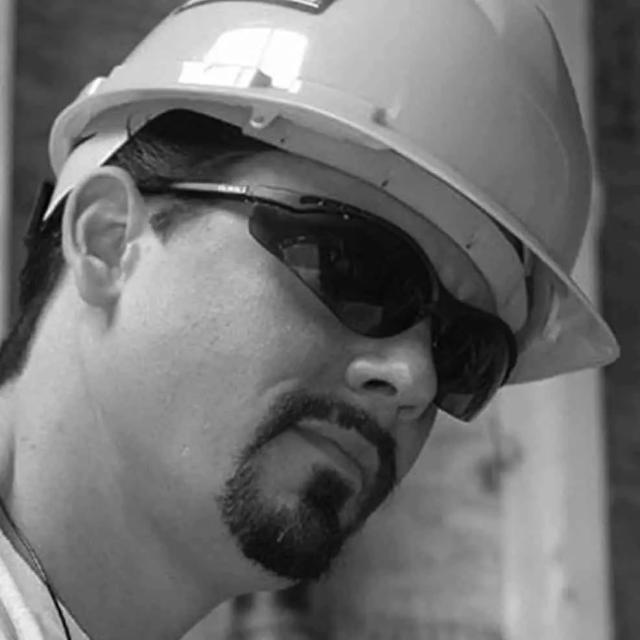goggles: (133, 168, 522, 422)
helmet: (41, 0, 611, 390)
